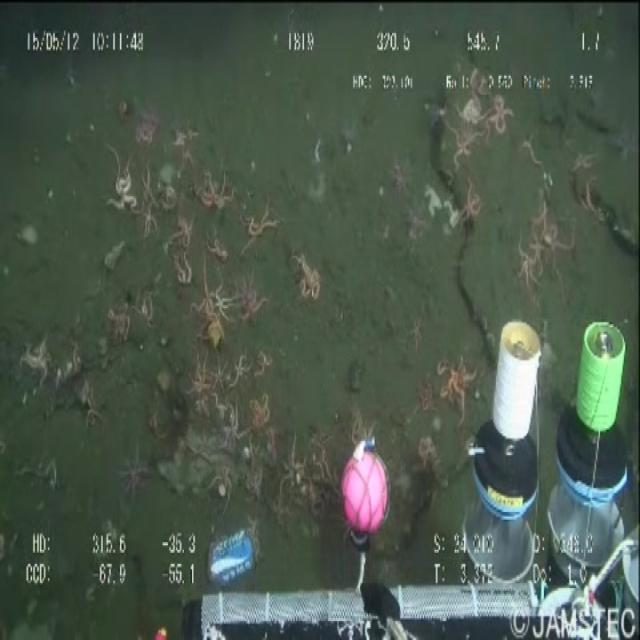Litter: (200, 514, 276, 586)
Natual-Debris: (96, 132, 281, 472), (442, 104, 582, 348)
